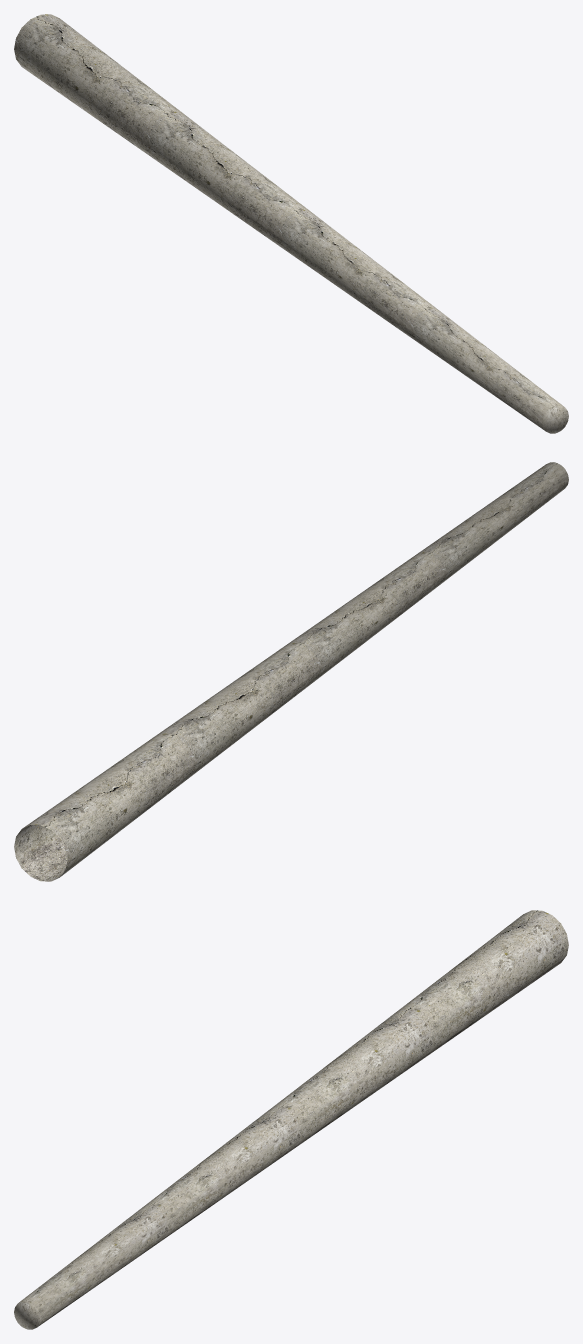
Rendered from Beton_4000.obj.
The picture shows the model from 3 angles, top to bottom: view 1: azimuth 30°, elevation 25°; view 2: azimuth 150°, elevation 25°; view 3: azimuth 330°, elevation 25°; orthographic projection.
Visible parts, largest first — view 1: Mast_4.0m_Beton.001; view 2: Mast_4.0m_Beton.001; view 3: Mast_4.0m_Beton.001.
Part boxes in pixels (box(x1,y1,x2,y2)): Mast_4.0m_Beton.001: box(14, 14, 568, 433); Mast_4.0m_Beton.001: box(14, 462, 568, 881); Mast_4.0m_Beton.001: box(14, 910, 568, 1329).
Size of the model in its own units: 0.24 by 0.24 by 4.
1 material, 1 textured.
